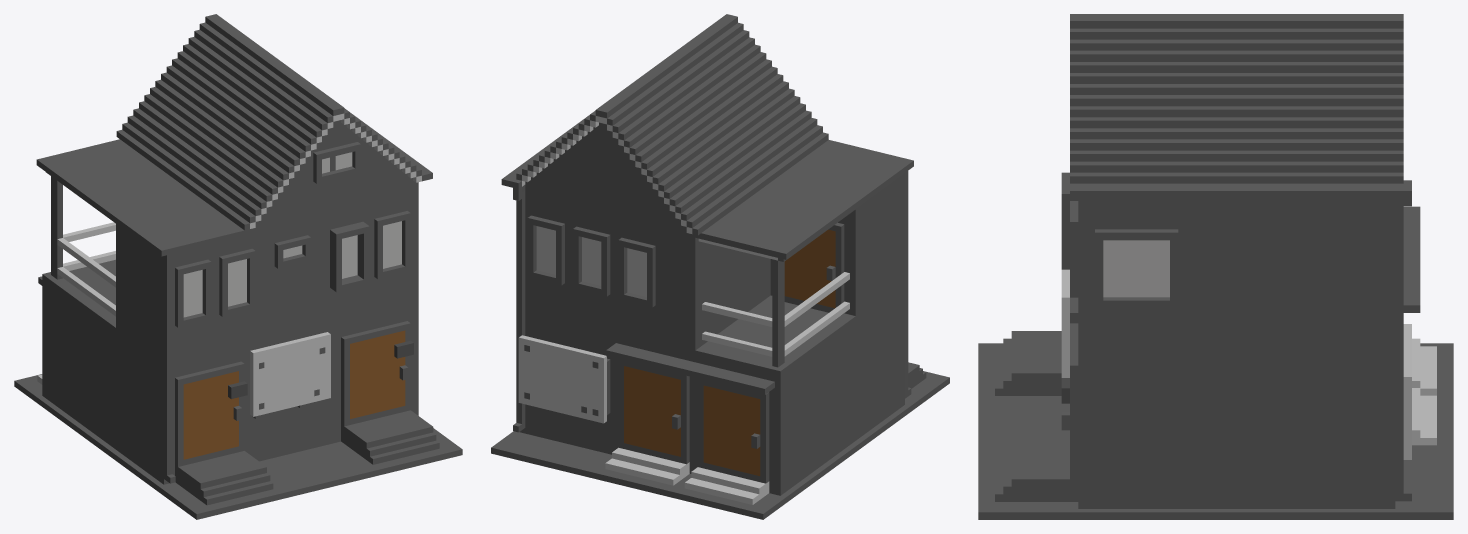
The model's file is bld_house8.obj.
3 renders of one model, left to right at view 1: azimuth 30°, elevation 25°; view 2: azimuth 150°, elevation 25°; view 3: azimuth 270°, elevation 25°, orthographic. The views are drawn at different scales.
Bounding box in the file's own units: 49 × 59 × 57.
